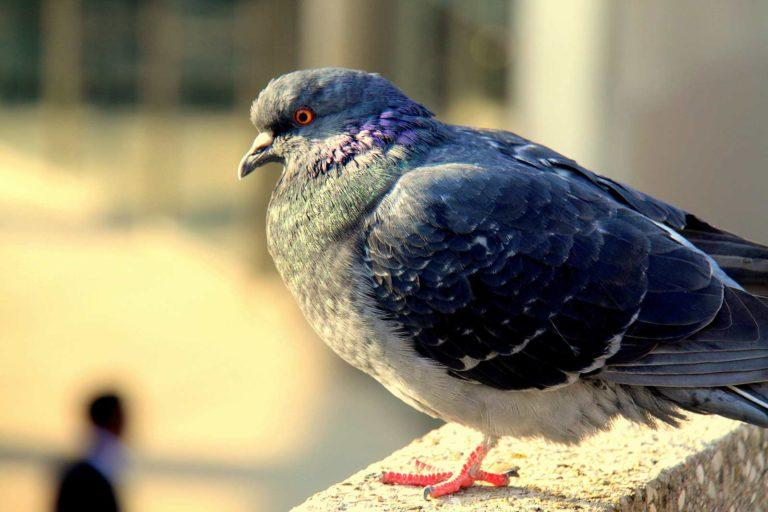Flying Rat: (221, 67, 768, 487)
